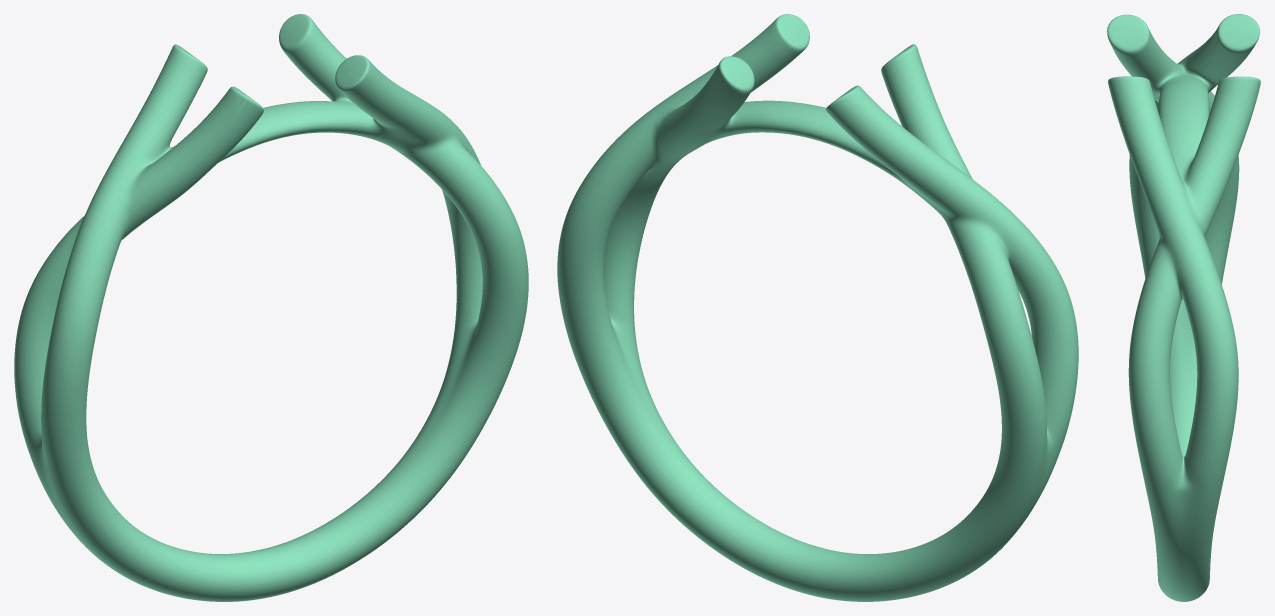
3 views of the same model, side by side, from view 1: azimuth 30°, elevation 25°; view 2: azimuth 150°, elevation 25°; view 3: azimuth 270°, elevation 25° (orthographic).
Parts seen in each view (by area): view 1: Metal02; view 2: Metal02; view 3: Metal02.
Boxes of the visible parts, box(x1,y1,x2,y2) form: Metal02: box(14, 14, 528, 601); Metal02: box(557, 14, 1078, 601); Metal02: box(1107, 14, 1260, 601).
Bounding box in the file's own units: 21.1 × 22.53 × 5.9.
